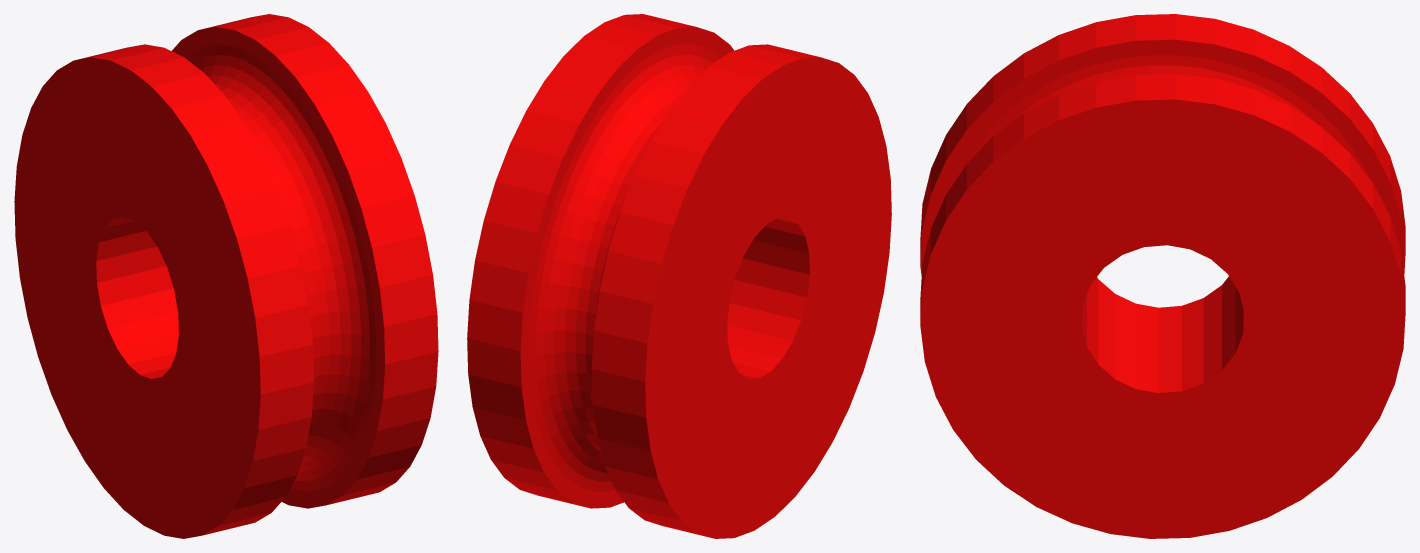
The model's file is power_cart_wr3_visuals_wr3_mesh.obj.
3 renders of one model, left to right at view 1: azimuth 30°, elevation 25°; view 2: azimuth 150°, elevation 25°; view 3: azimuth 270°, elevation 25°, orthographic.
Bounding box in the file's own units: 0.5 × 1.2 × 1.2.
